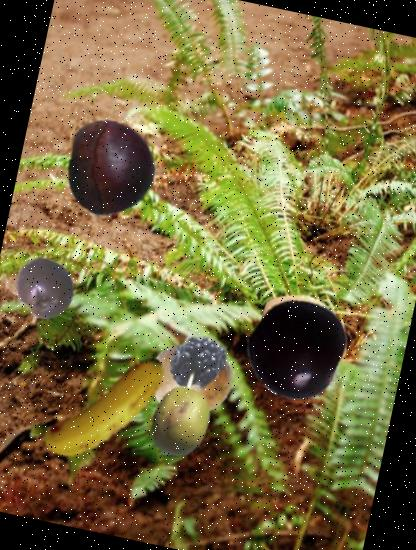Banana: (13, 319, 186, 492)
Cherry: (237, 288, 357, 409)
Chestnut: (55, 112, 169, 226)
Kumquats: (255, 279, 338, 362)
Mulberry: (148, 314, 233, 398)
Onion: (140, 329, 242, 432)
Passion: (7, 252, 79, 324)
Pomelo: (138, 380, 223, 464)
